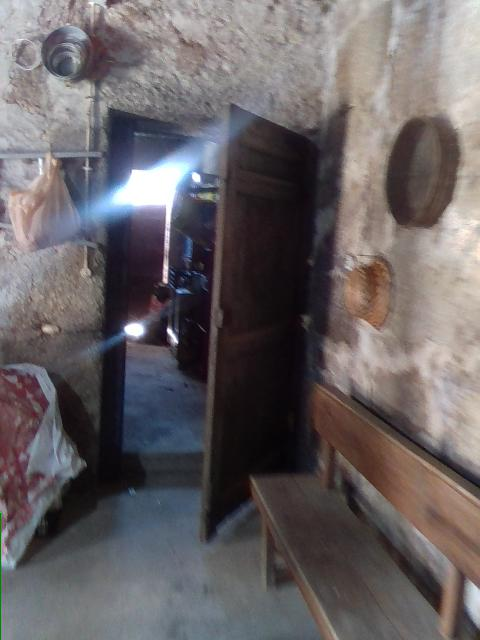semi_door: (93, 100, 323, 547)
